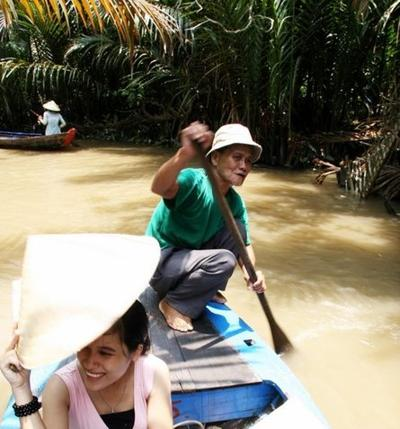person: (145, 121, 269, 332)
